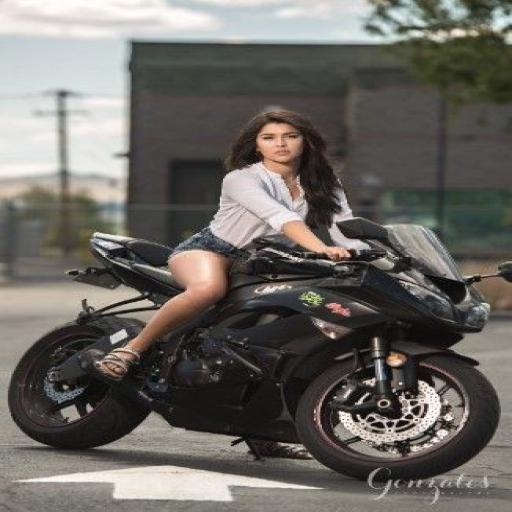helmet: (6, 219, 509, 482), (91, 108, 361, 382)
